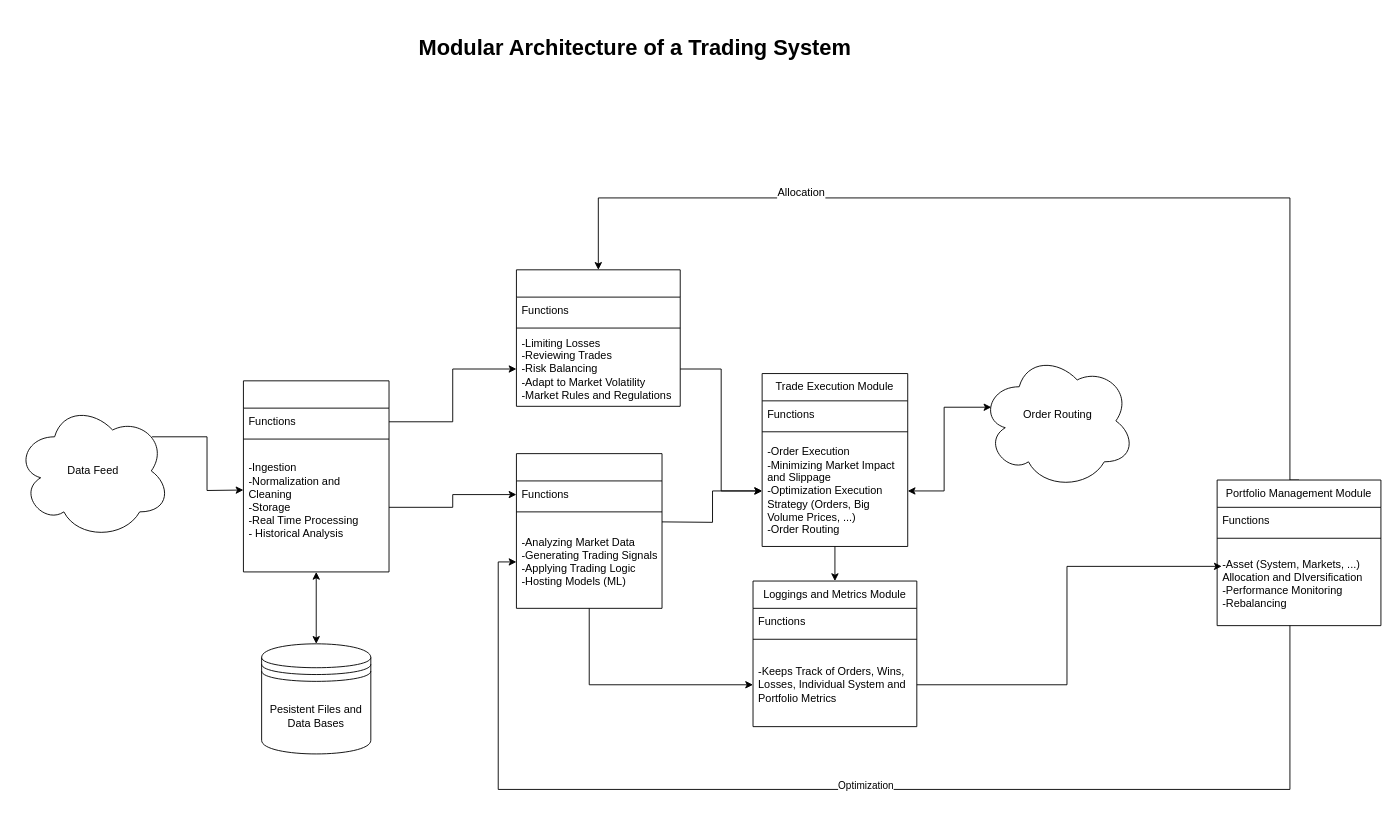
Some shapes in this 1397 by 813 pixel diagram are drawn without their labels. The shapes that lost their labels are listed below. From the top down, each one's box as (x1, y1, x2, y2) in pixels, then its label:
(516, 269, 680, 406): Risk Management Module
(243, 380, 389, 572): Data Management Module
(516, 453, 662, 608): Signal Generation Module
